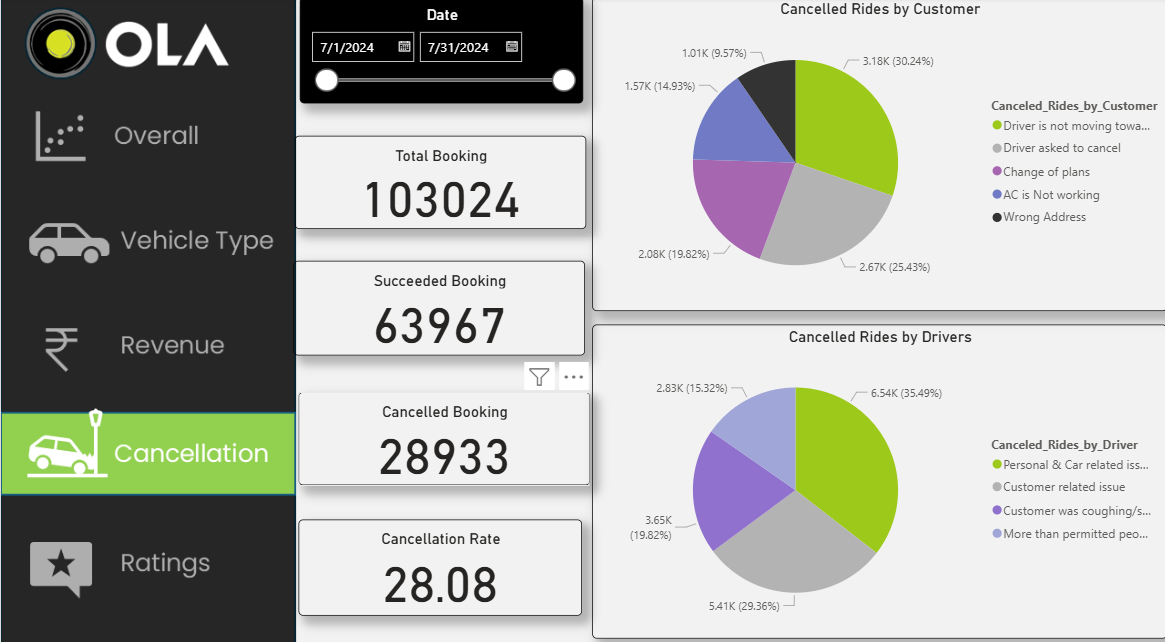

What the dashboard file says about the page in this screenshot:
{"tool":"powerbi","page":{"name":"Cancellation","canvas":[1280,720],"ordinal":3},"visuals":[{"type":"actionButton","box":[0,342.6,324.5,91.7],"z":0},{"type":"actionButton","box":[0,342.6,324.5,91.7],"z":1000},{"type":"actionButton","box":[0,220.8,324.5,91.7],"z":2000},{"type":"actionButton","box":[0,113.4,324.5,91.7],"z":3000},{"type":"actionButton","box":[0,574.3,324.5,91.7],"z":4000},{"type":"pieChart","title":"Cancelled Rides by Customer","fields":{"Category":["Bookings_Cleaned.Canceled_Rides_by_Customer"],"Y":["CountNonNull(Bookings_Cleaned.Canceled_Rides_by_Customer)"]},"box":[649.1,0,631.2,344.4],"z":5000},{"type":"pieChart","title":"Cancelled Rides by Drivers","fields":{"Y":["CountNonNull(Bookings_Cleaned.Canceled_Rides_by_Driver)"],"Category":["Bookings_Cleaned.Canceled_Rides_by_Driver"]},"box":[649.1,359.5,631.2,344.4],"z":6000},{"type":"slicer","title":"Date","fields":{"Values":["Bookings_Cleaned.Date"]},"box":[328,0,311.5,116.6],"z":7000},{"type":"card","title":"Total Booking","fields":{"Values":["CountNonNull(Bookings_Cleaned.Booking_ID)"]},"box":[323,152.7,320.1,102.8],"z":8000},{"type":"card","title":"Succeeded Booking","fields":{"Values":["CountNonNull(Bookings_Cleaned.Booking_ID)"]},"box":[321.5,289.2,320.1,104.2],"z":9000},{"type":"card","title":"Cancelled Booking","fields":{"Values":["CountNonNull(Bookings_Cleaned.Booking_ID)"]},"box":[325.9,433.1,320.1,102.8],"z":10000},{"type":"card","title":"Cancellation Rate","fields":{"Values":["Bookings_Cleaned.canceledPercentage"]},"box":[325.9,574.1,311.3,105.7],"z":11001}]}

Visuals, with their boxes in screenshot pixels (x1, y1, x2, y2), scaled from the page's 1280x720 canvas onto the 1165x642 screenshot:
actionButton: x1=0 y1=305 x2=295 y2=387
actionButton: x1=0 y1=305 x2=295 y2=387
actionButton: x1=0 y1=197 x2=295 y2=279
actionButton: x1=0 y1=101 x2=295 y2=183
actionButton: x1=0 y1=512 x2=295 y2=594
"Cancelled Rides by Customer" pieChart: x1=591 y1=0 x2=1164 y2=307
"Cancelled Rides by Drivers" pieChart: x1=591 y1=321 x2=1164 y2=628
"Date" slicer: x1=299 y1=0 x2=582 y2=104
"Total Booking" card: x1=294 y1=136 x2=585 y2=228
"Succeeded Booking" card: x1=293 y1=258 x2=584 y2=351
"Cancelled Booking" card: x1=297 y1=386 x2=588 y2=478
"Cancellation Rate" card: x1=297 y1=512 x2=580 y2=606
